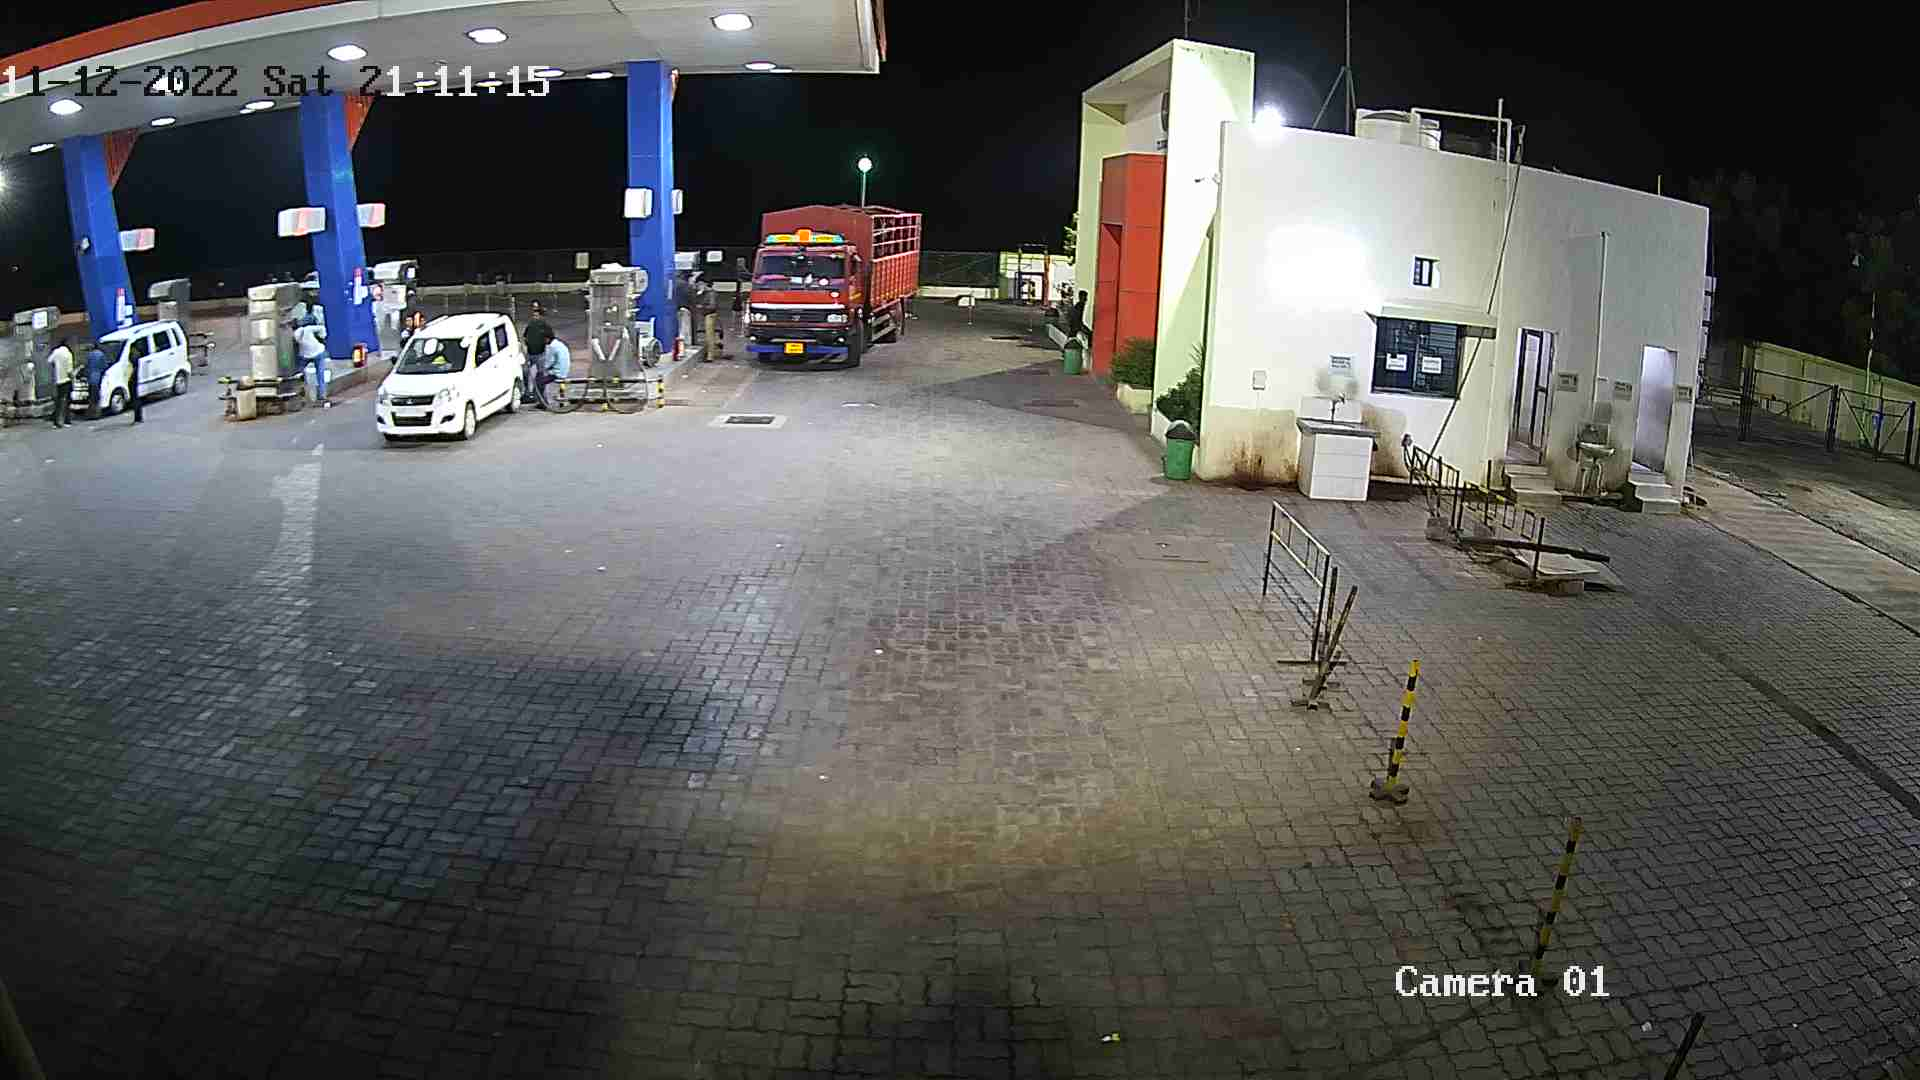Car: (369, 295, 534, 458), (63, 303, 206, 425)
HMV: (728, 187, 916, 373)
